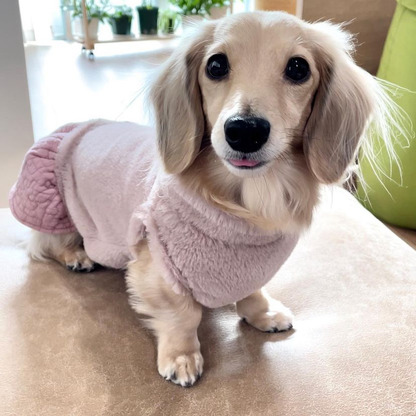dachshund: (42, 13, 400, 402)
